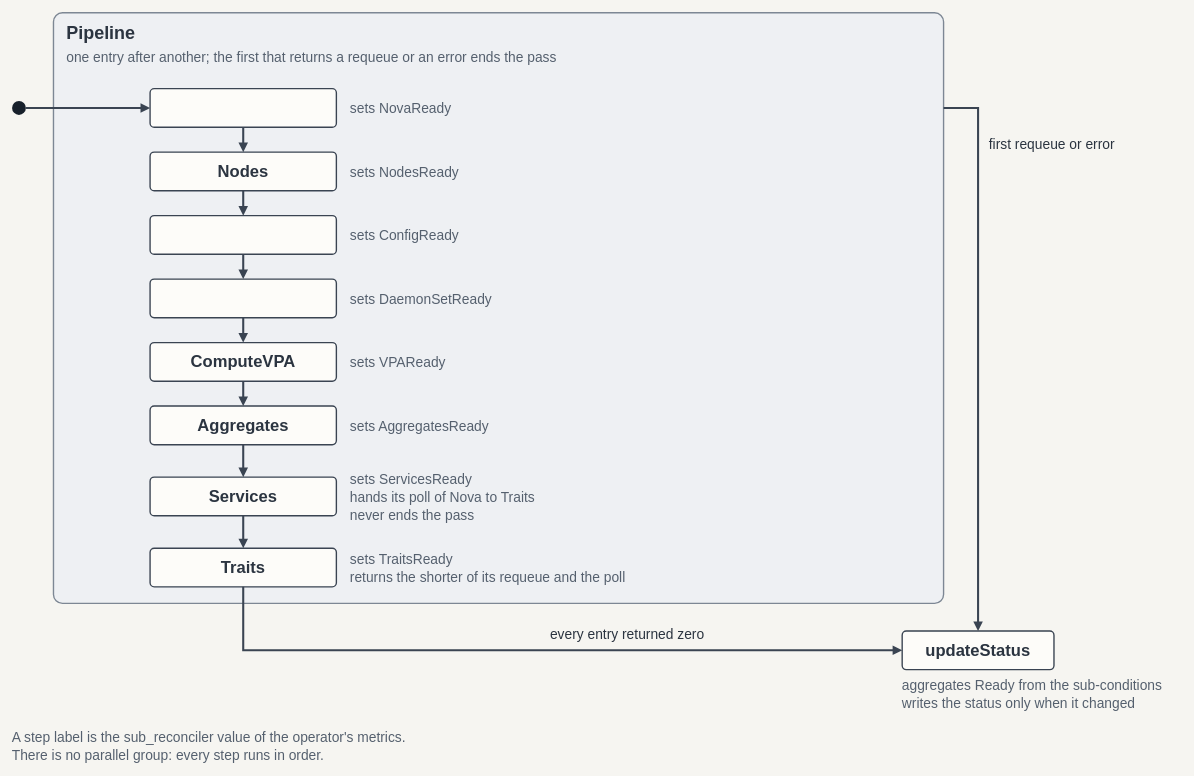
This 1194x776 diagram has some shape labels left out. Each missing label, with the centre of its shape:
DaemonSet: point 243,298
NovaRef: point 243,108
PoolConfig: point 243,235
